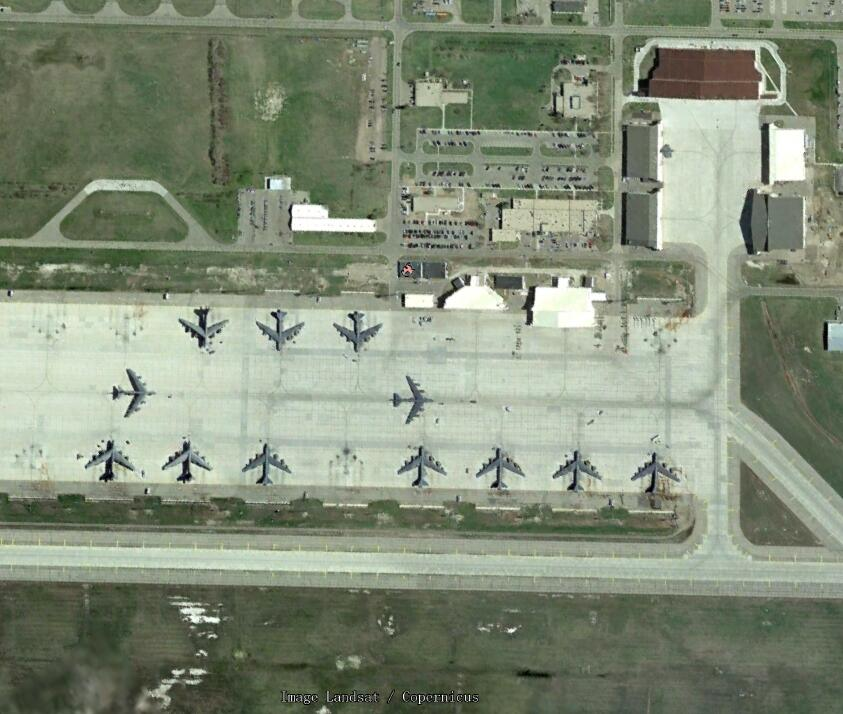A8: (104, 367, 163, 421), (384, 373, 439, 427), (81, 438, 140, 483), (552, 446, 605, 496), (175, 304, 230, 352), (253, 307, 308, 355), (329, 308, 384, 356), (396, 442, 448, 492), (241, 440, 293, 488), (628, 450, 682, 496), (163, 439, 214, 486), (476, 448, 528, 491)
